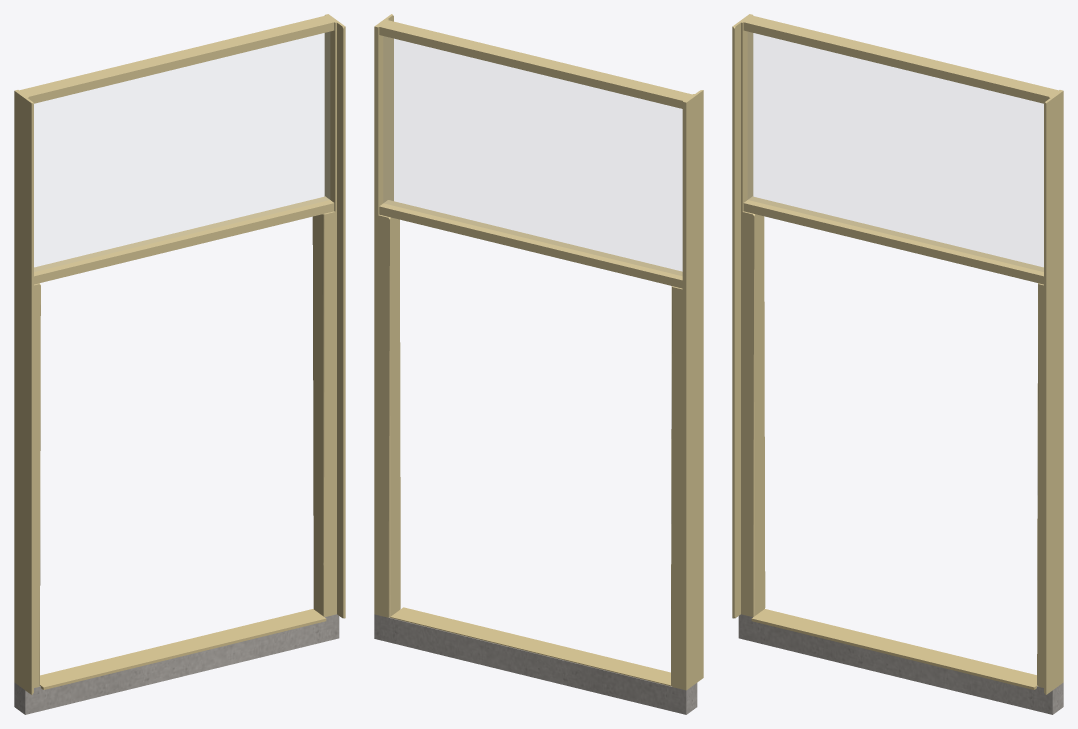
File: g_door.glb
3 views of the same model, side by side, from view 1: azimuth 30°, elevation 25°; view 2: azimuth 150°, elevation 25°; view 3: azimuth 330°, elevation 25° (orthographic).
Visible parts, largest first — view 1: g_door_glass, g_door_gold, g_door_concrete, g_door_brass; view 2: g_door_glass, g_door_gold, g_door_concrete, g_door_brass; view 3: g_door_glass, g_door_gold, g_door_concrete, g_door_brass.
Boxes of the visible parts, <box> form: g_door_glass: <box>34,32,329,271</box>; g_door_gold: <box>14,14,345,694</box>; g_door_concrete: <box>14,614,339,714</box>; g_door_brass: <box>40,609,326,689</box>; g_door_glass: <box>384,37,681,275</box>; g_door_gold: <box>374,14,703,690</box>; g_door_concrete: <box>374,614,697,714</box>; g_door_brass: <box>390,607,671,686</box>; g_door_glass: <box>748,32,1043,271</box>; g_door_gold: <box>732,14,1063,694</box>; g_door_concrete: <box>738,614,1063,714</box>; g_door_brass: <box>751,609,1037,689</box>.
Bounding box in the file's own units: 2 × 3.75 × 0.19.
Materials: 4 (1 with a texture image).
